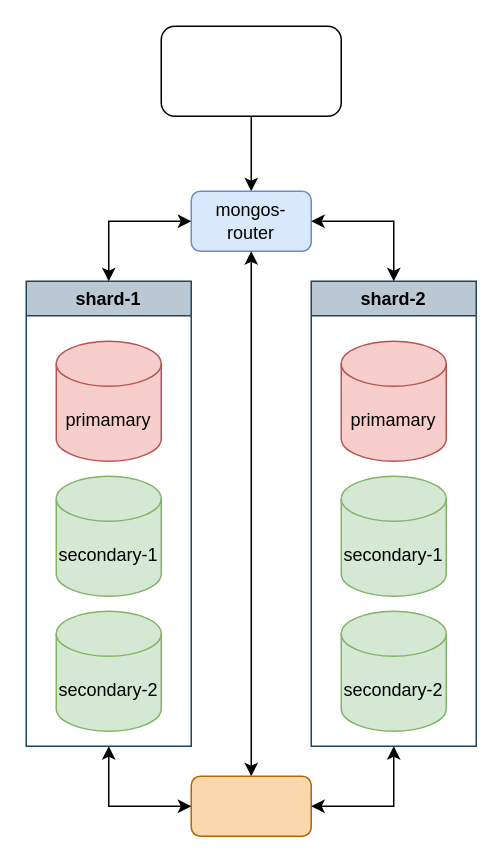
The diagram is 503 pixels wide and 863 high, and some of its shapes have lost their labels. Each missing label, with the centre of its shape:
"config-srv" goes at [250,805].
"pymongo-api" goes at [250,70].
